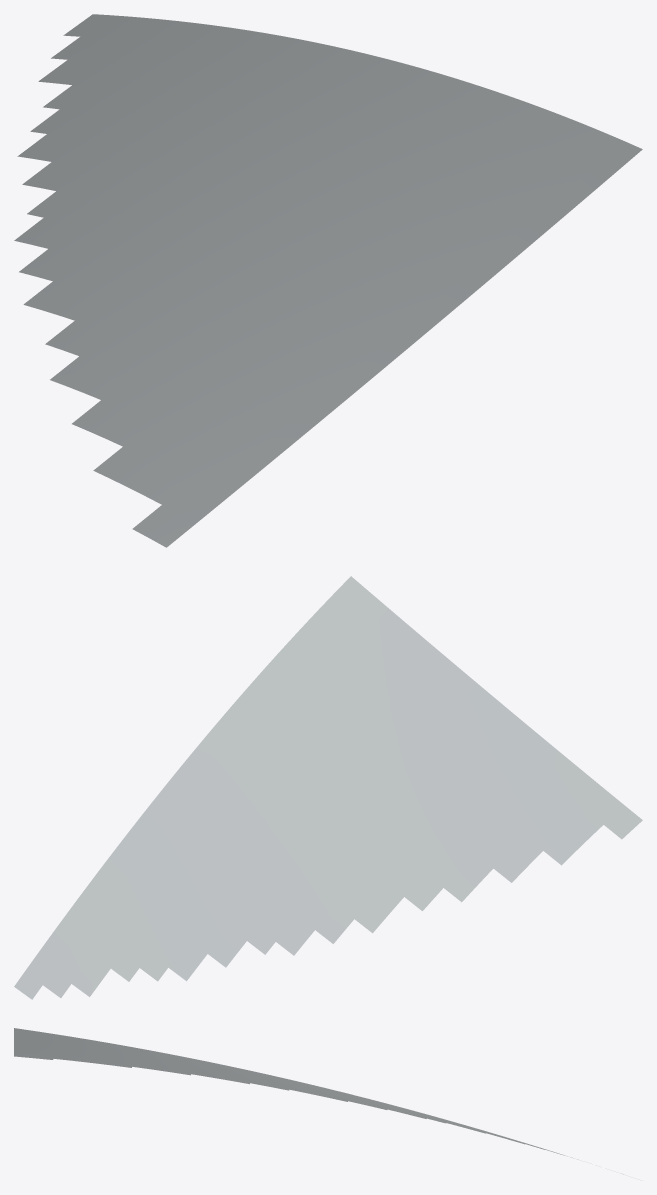
File: alpine-5-5.glb
3 renders of one model, top to bottom at view 1: azimuth 30°, elevation 25°; view 2: azimuth 150°, elevation 25°; view 3: azimuth 270°, elevation 25°, orthographic. The views are drawn at different scales.
Parts seen in each view (by area): view 1: alpine-5-5; view 2: alpine-5-5; view 3: alpine-5-5.
Boxes of the visible parts, x1=… form: alpine-5-5: x1=14, y1=14, x2=642, y2=547; alpine-5-5: x1=14, y1=576, x2=642, y2=999; alpine-5-5: x1=14, y1=1028, x2=623, y2=1174.
Bounding box in the file's own units: 128 × 74.66 × 256.
Materials: 1 (1 with a texture image).
